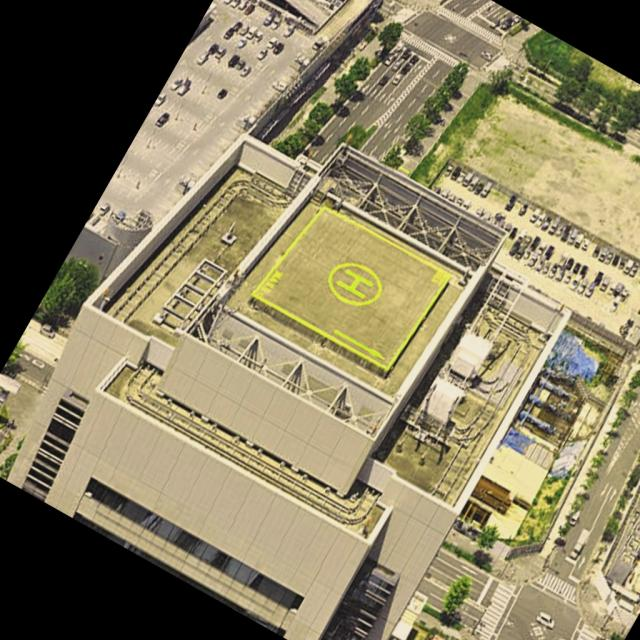helipad: (324, 259, 384, 307)
